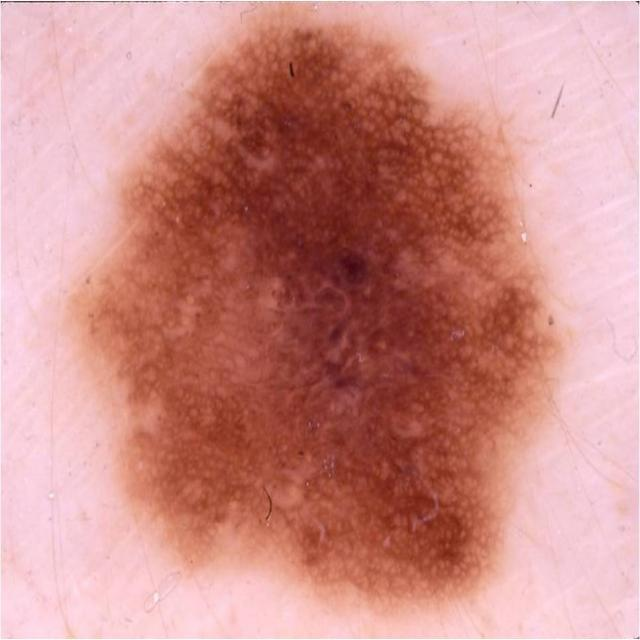Benign: (81, 7, 558, 610)
